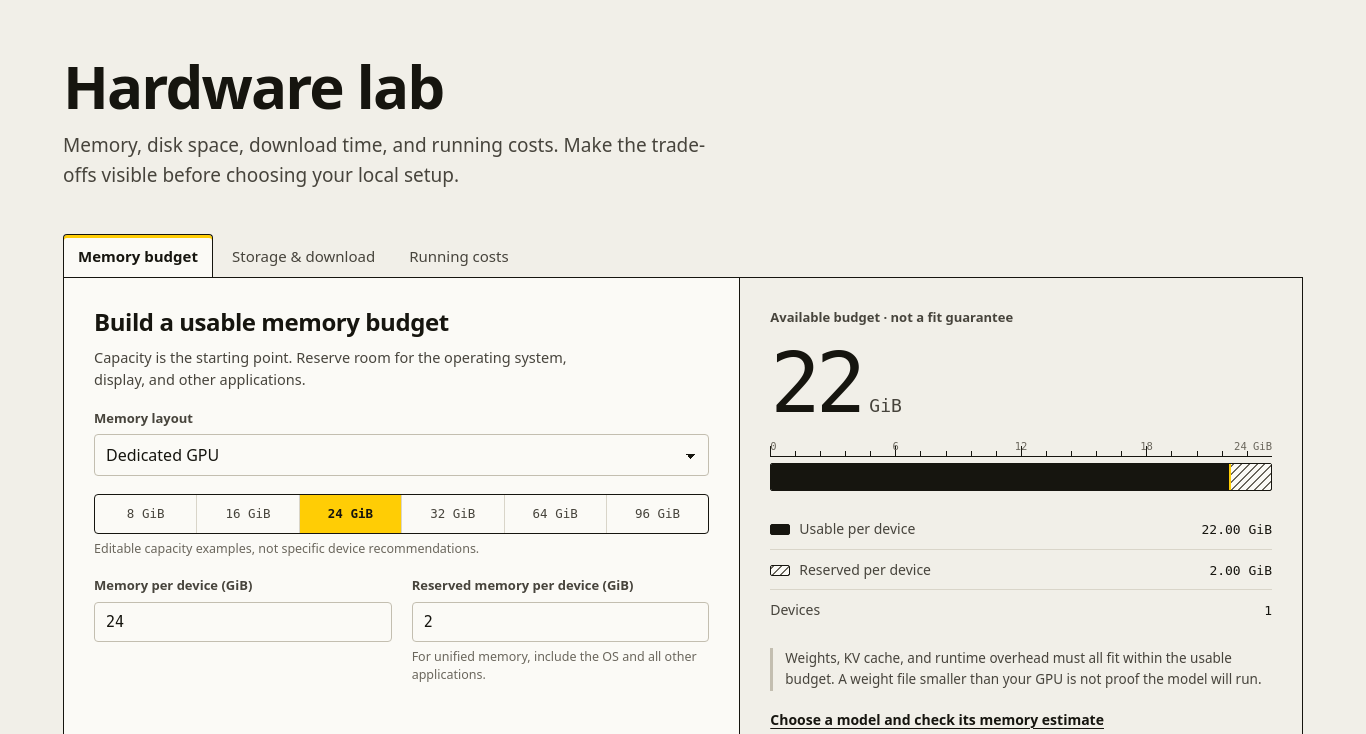
Scenario: hardware lab › calculates budget and flags malformed inputs immediately
Expected: the heading "Hardware lab" is shown, [63,45,443,127]
Clear the field labelled "Memory per device (GiB)" at (243, 622), box [94,602,392,642]
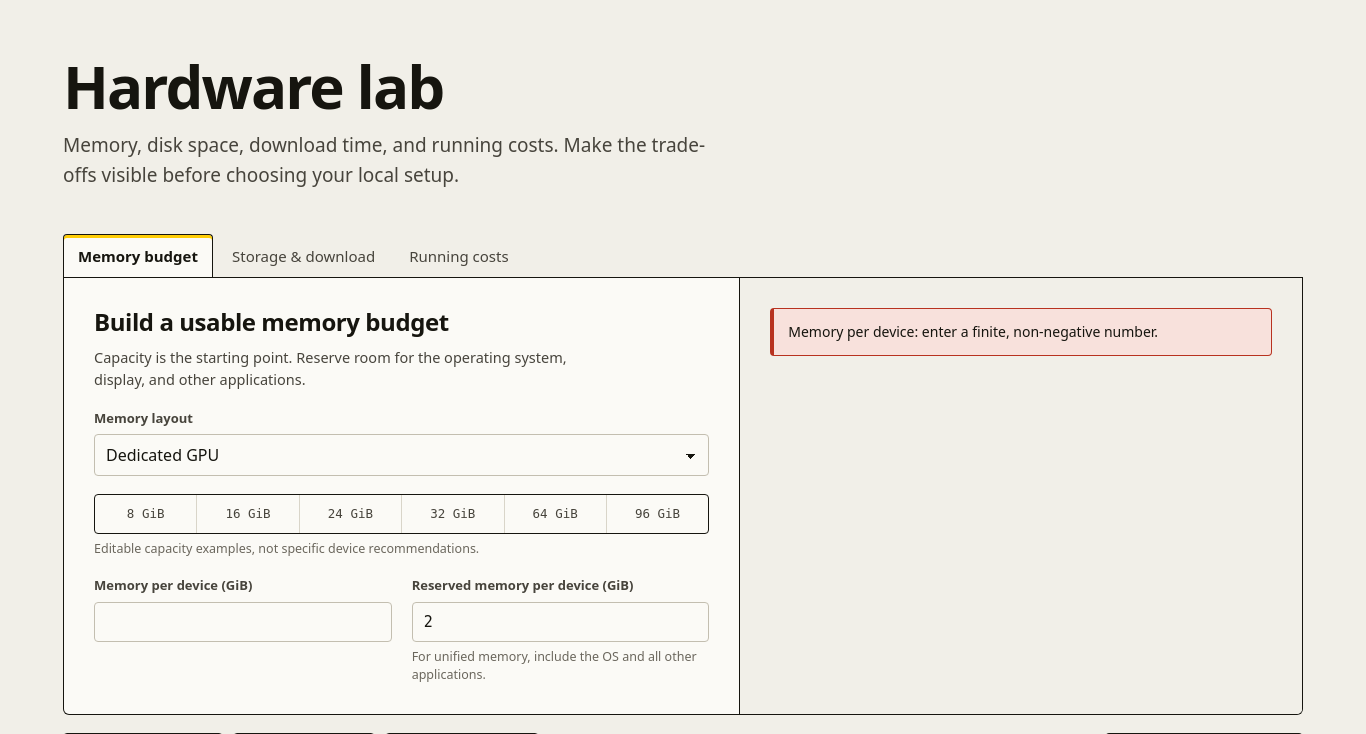
Expected: the message shows "enter a finite", [788,322,1158,341]
Expected: the picture is gone
